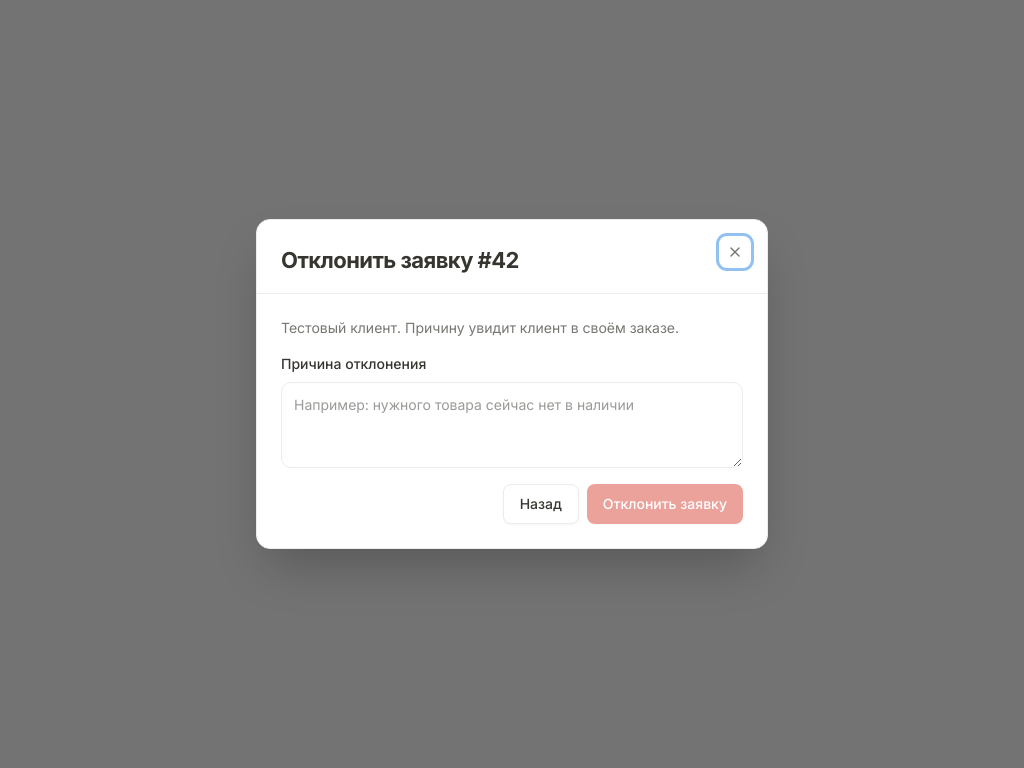
keeps the reason and shows a server error instead of closing
Step 1. Type "Нет товара" into the text box → [512, 425], box x1=281 y1=382 x2=743 y2=468
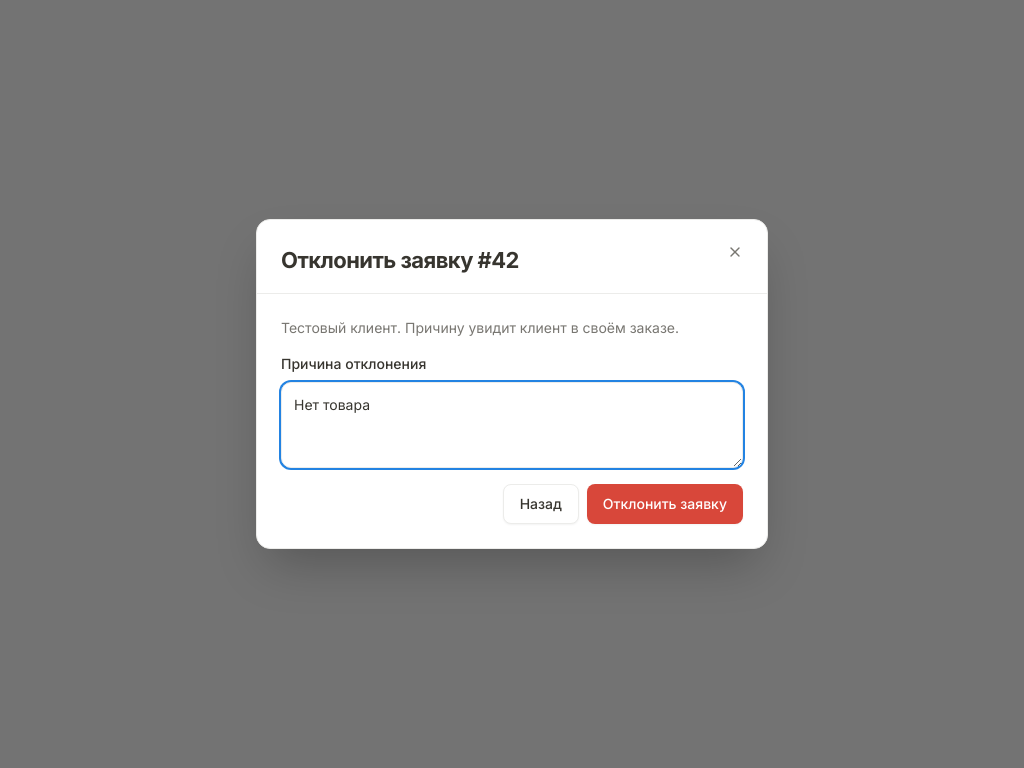
Step 2. Click the button "Отклонить заявку" → [665, 504], box x1=587 y1=484 x2=743 y2=524
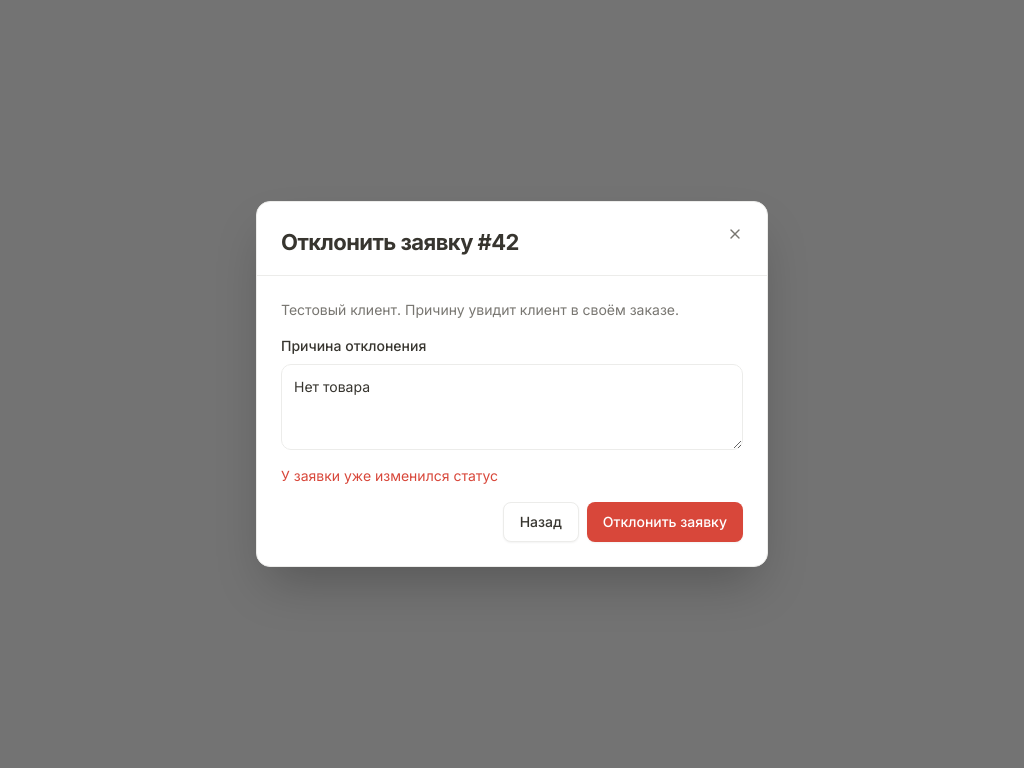
Now the message reads "У заявки уже изменился статус", box x1=281 y1=467 x2=498 y2=484
